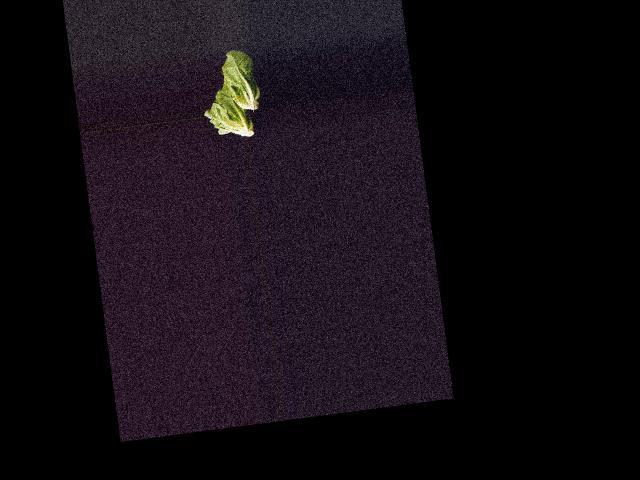lettuce: (200, 74, 261, 142)
